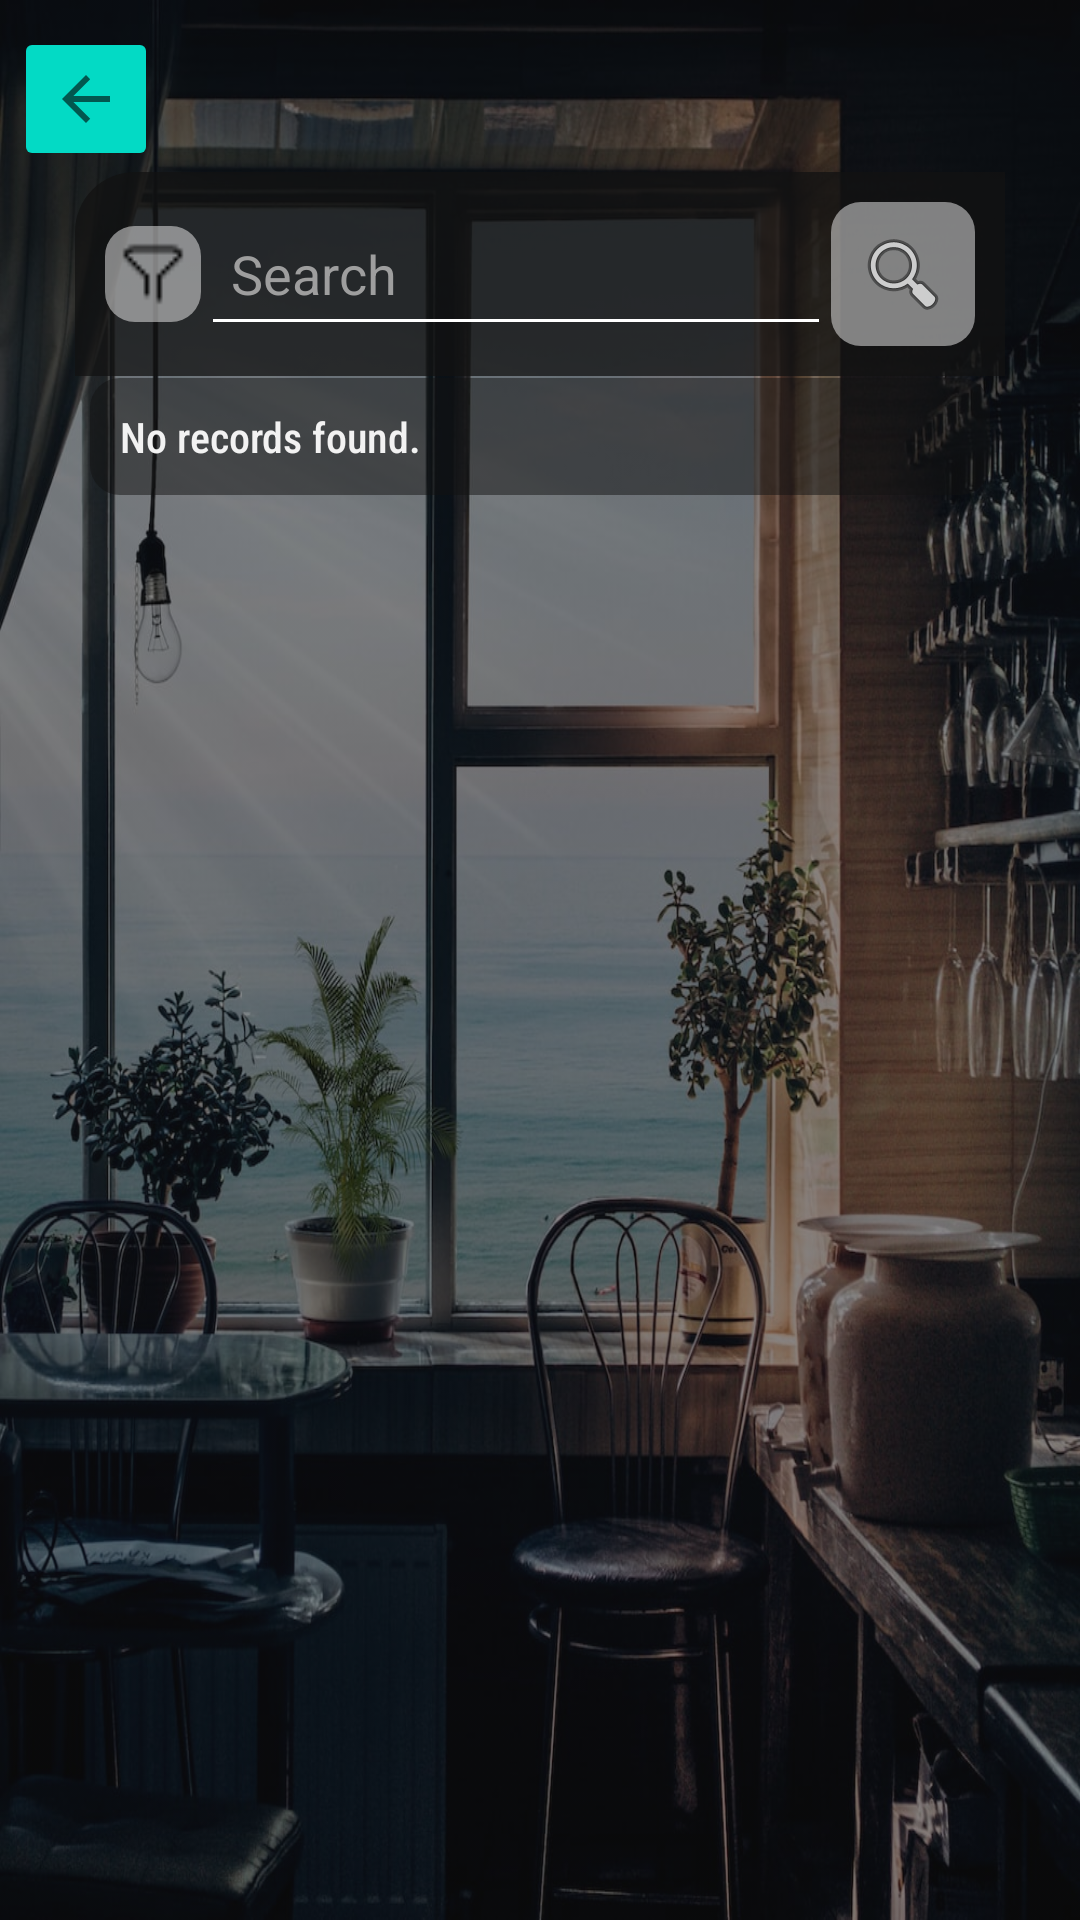

Where icons sit on this 1080 x 1920 app screen, as (x1, y1, x2, y2):
filter: (105, 226, 201, 322)
